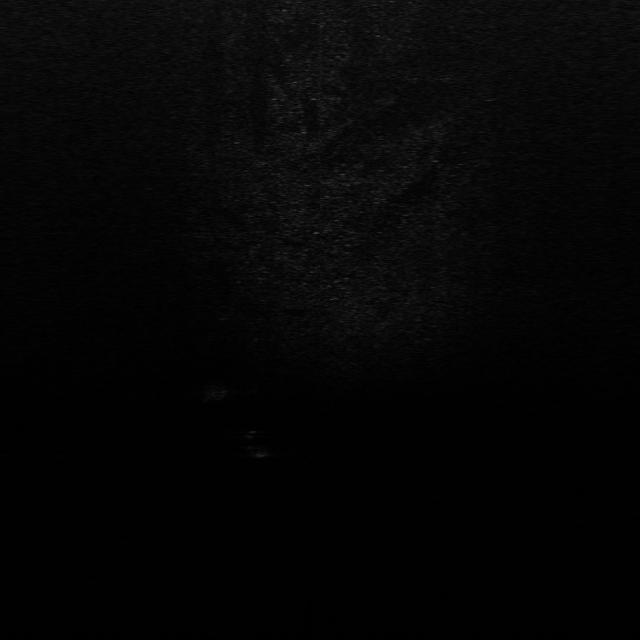circle cage: (200, 381, 236, 410)
tyre: (238, 426, 278, 462)
